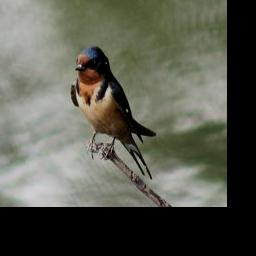Swallow: (68, 44, 153, 181)
